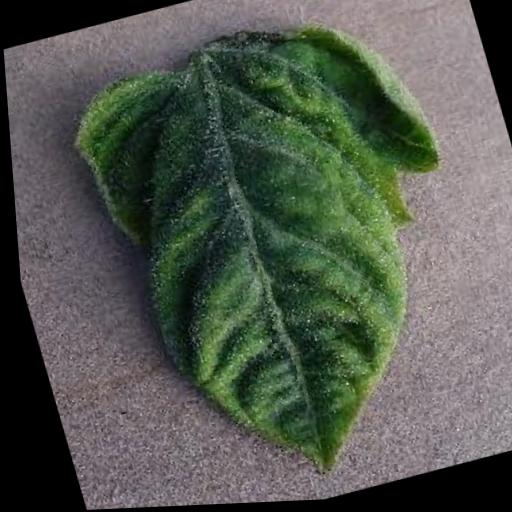Yellow Leaf Curl Virus: (46, 0, 512, 510)
